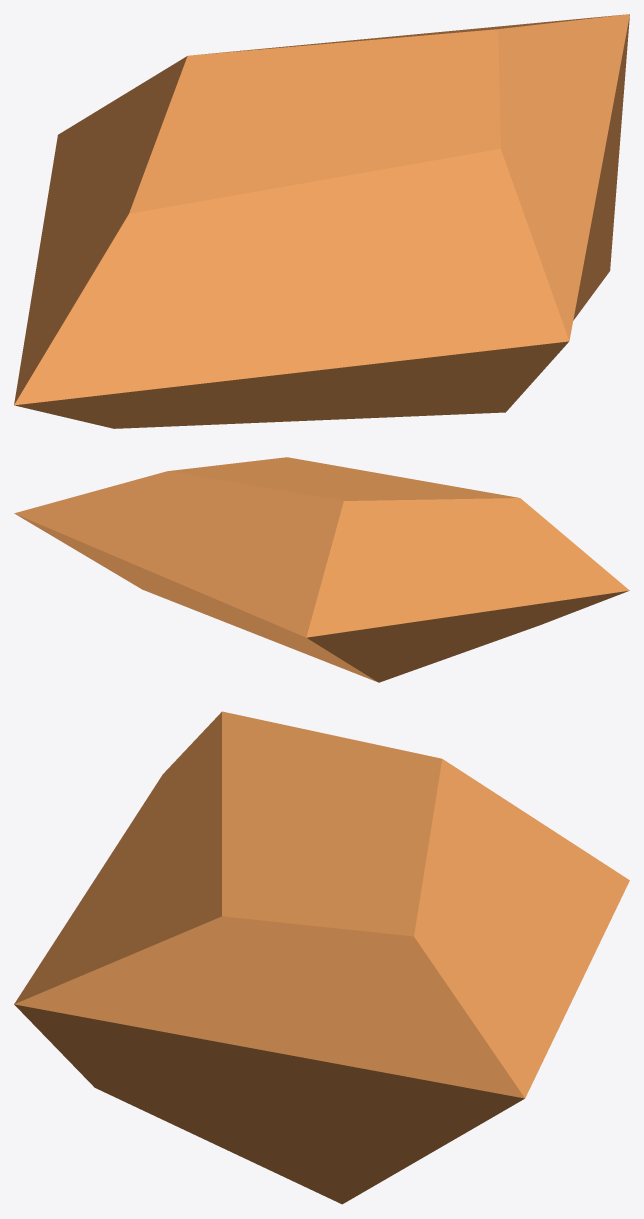
File: SM_SmallRock_6.FBX
3 views of the same model, one above another, from view 1: azimuth 30°, elevation 25°; view 2: azimuth 150°, elevation 25°; view 3: azimuth 270°, elevation 25° (orthographic). The views are drawn at different scales.
Visible parts, largest first — view 1: Rock 6; view 2: Rock 6; view 3: Rock 6.
Boxes of the visible parts, box(x1,y1,x2,y2) form: Rock 6: box(14, 14, 629, 428); Rock 6: box(14, 457, 629, 682); Rock 6: box(14, 711, 629, 1204).
Bounding box in the file's own units: 57.51 × 19.8 × 38.8.
